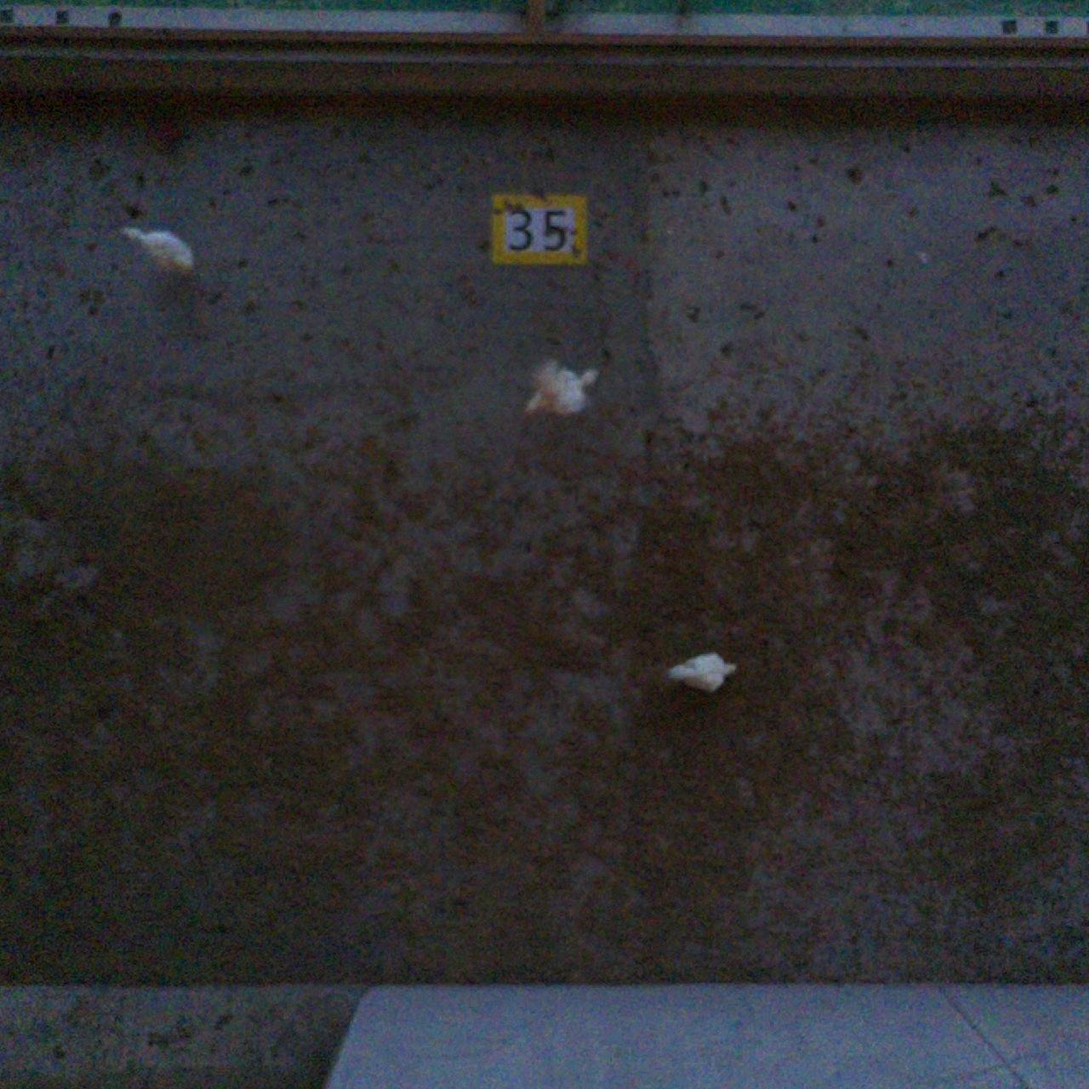chicken: (525, 356, 599, 417), (118, 220, 197, 276), (666, 649, 739, 693)
